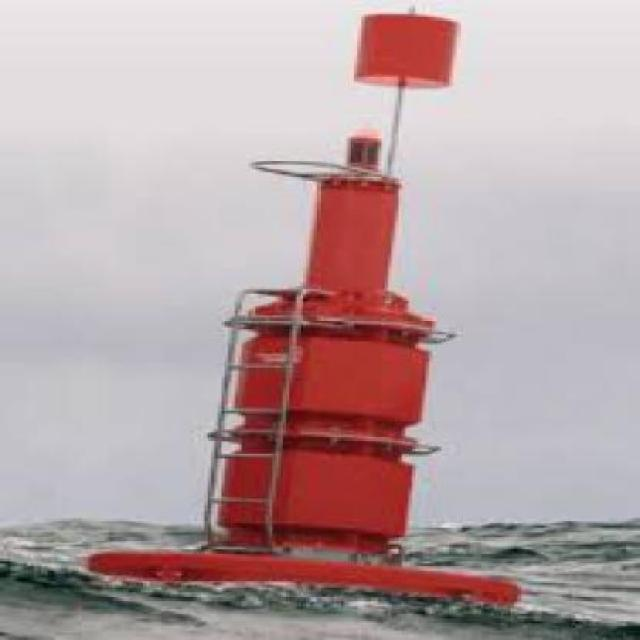buoy: (62, 4, 533, 613)
